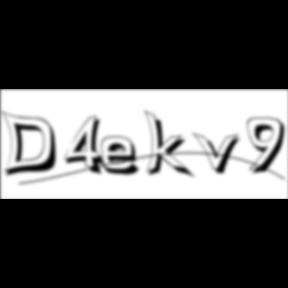4: (65, 115, 112, 179)
D: (1, 110, 64, 180)
e: (101, 135, 147, 178)
k: (144, 108, 198, 181)
v: (193, 131, 247, 177)
